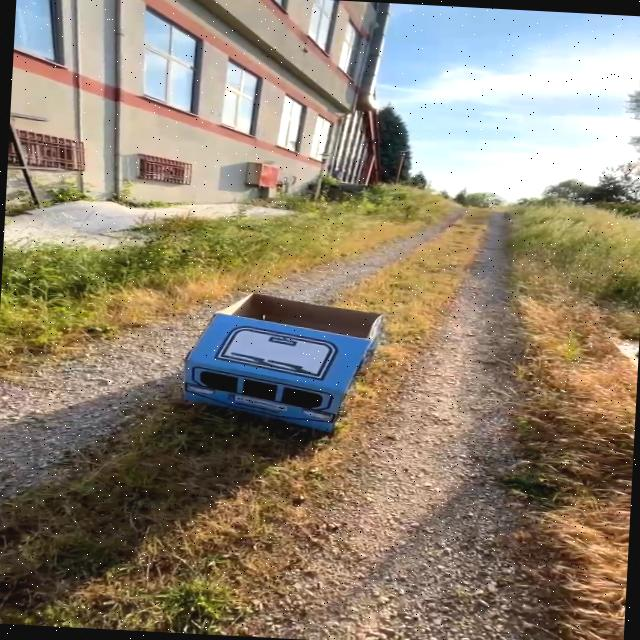blue_car: (135, 259, 428, 469)
